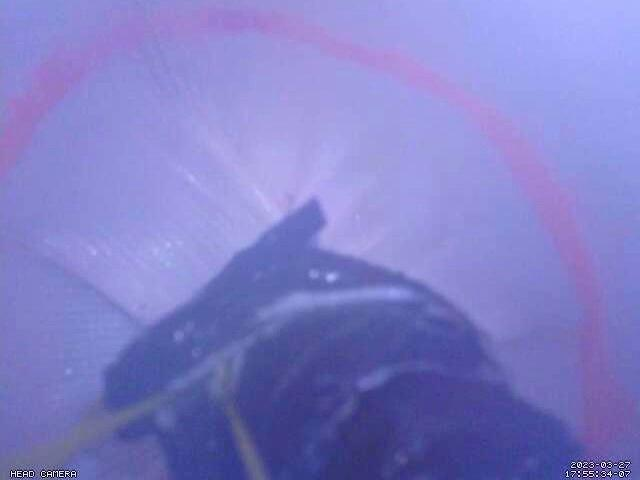head: (0, 5, 629, 480)
